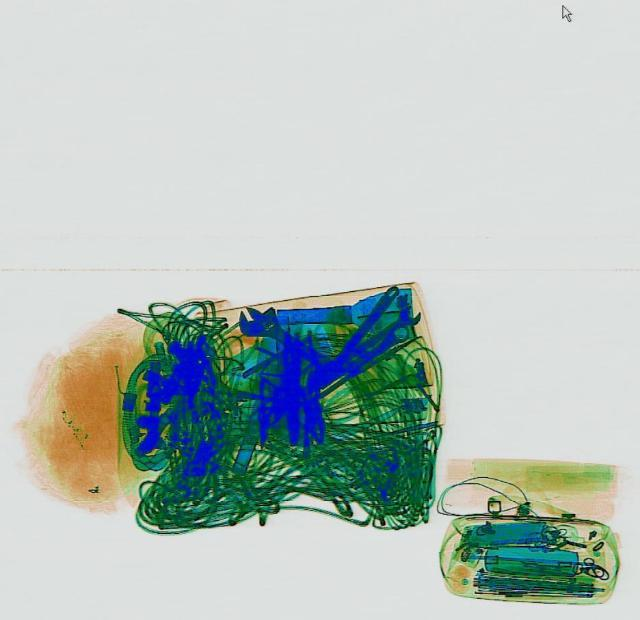Wrench: (226, 292, 344, 380), (342, 299, 424, 365)
